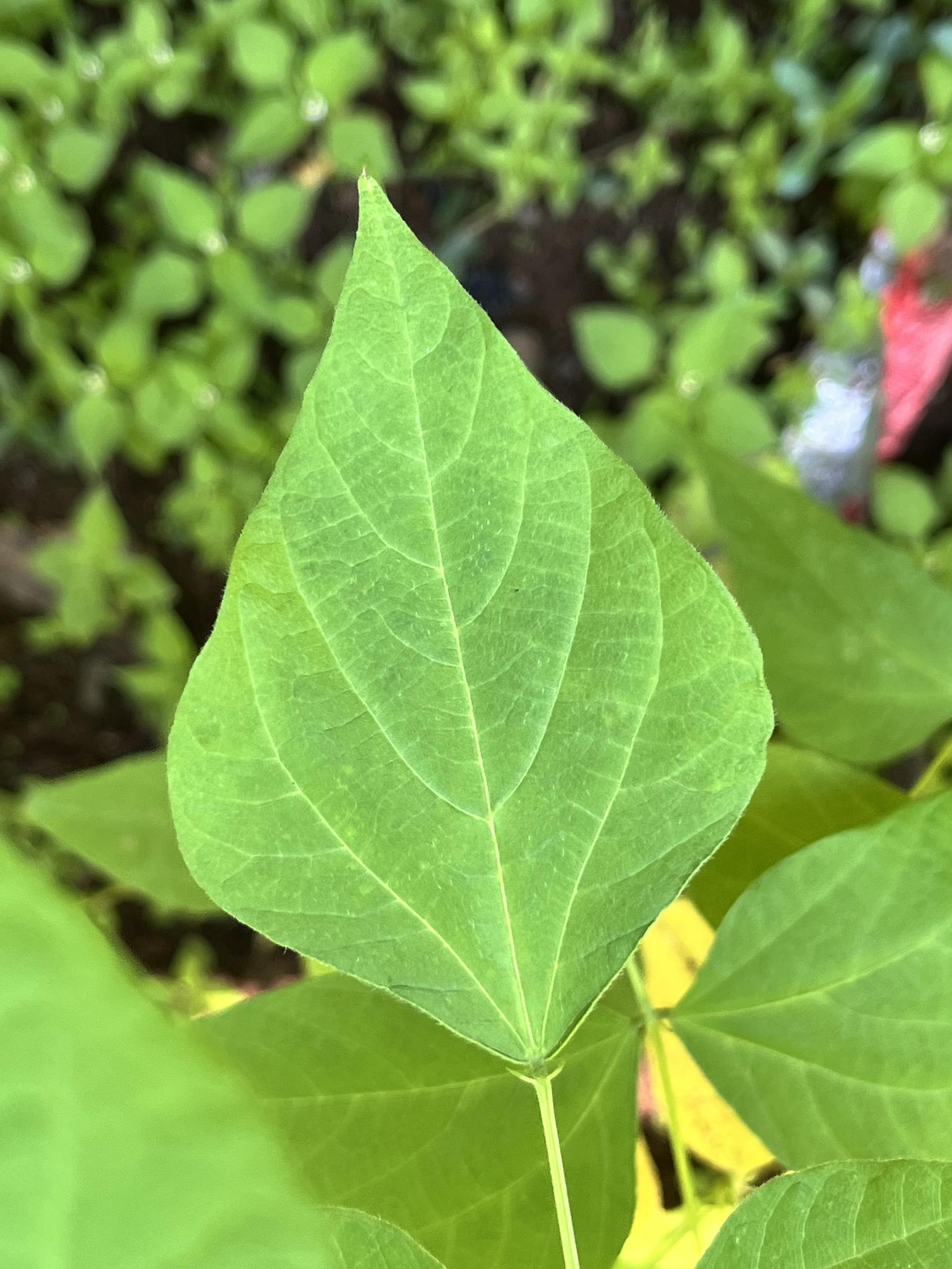sehat: (167, 174, 778, 1076)
